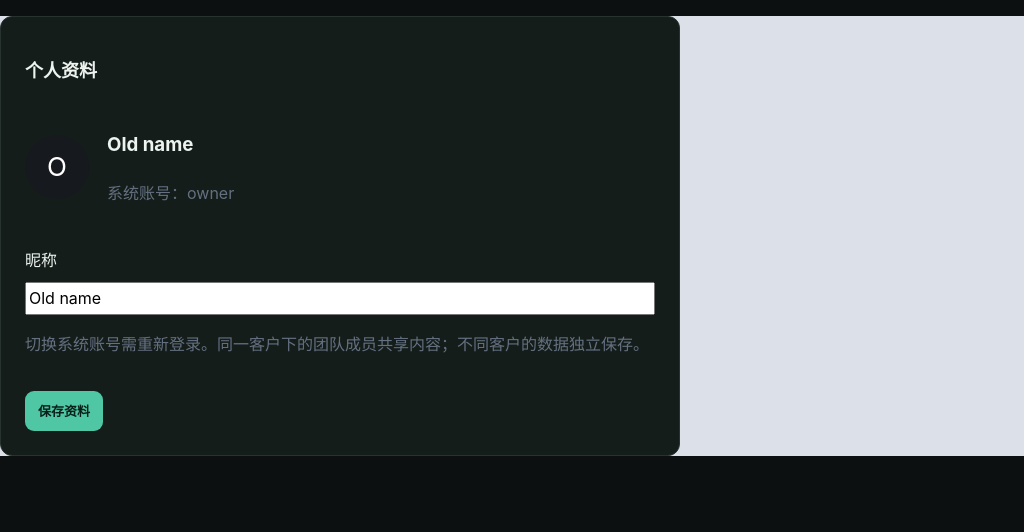
profile saves entered nickname and presents returned saved value
Replace the text in the field labelled "昵称" with "New name" at (340, 299), box [25,282,655,315]
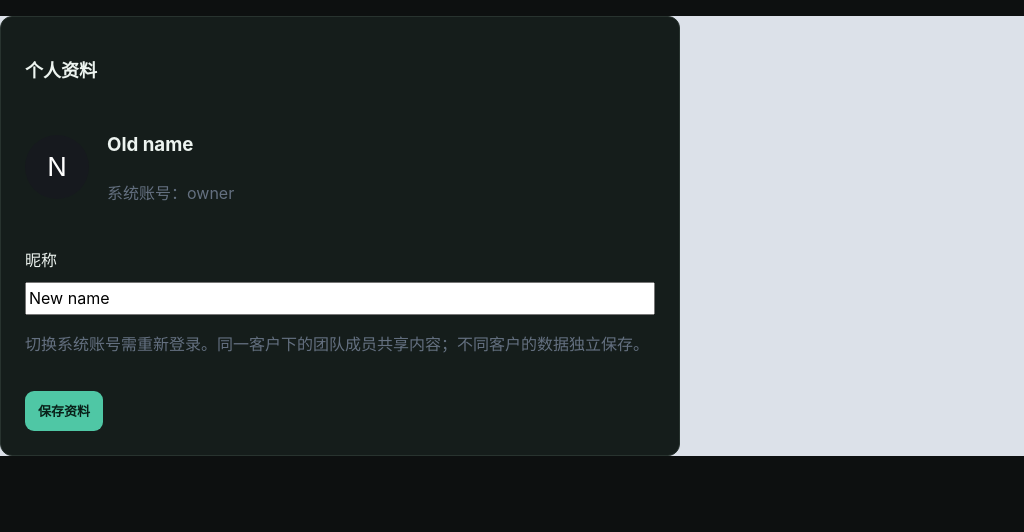
Click the button "保存资料" at (64, 411), box [25,390,103,431]
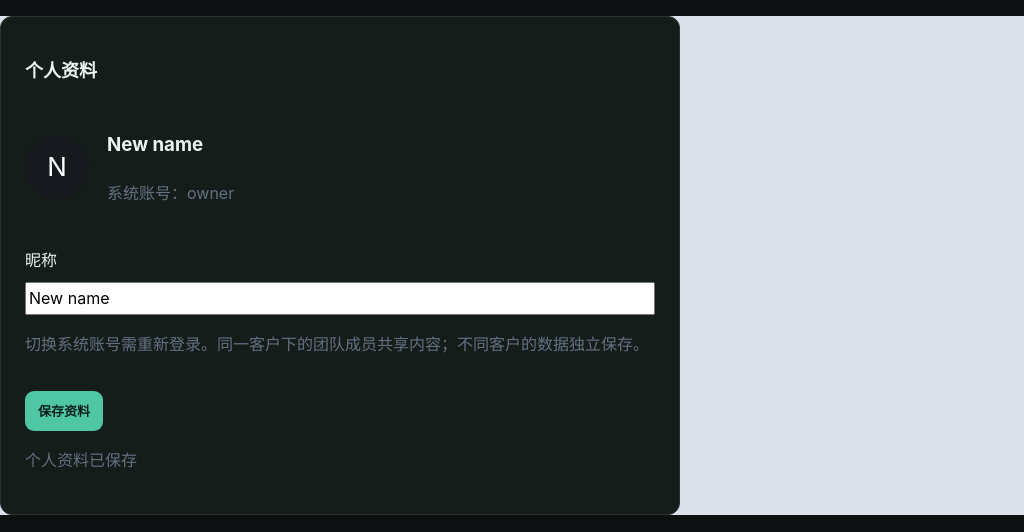
Expected: the text "个人资料已保存" is shown, [25,450,137,470]
Expected: the heading "New name" is shown, [107,133,203,156]
